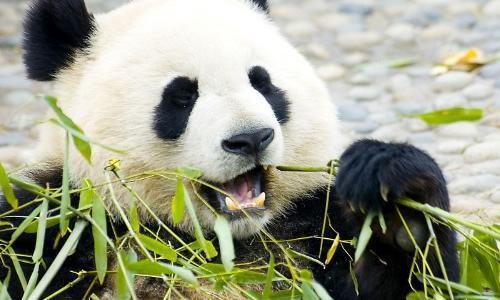panda: (14, 1, 462, 299)
